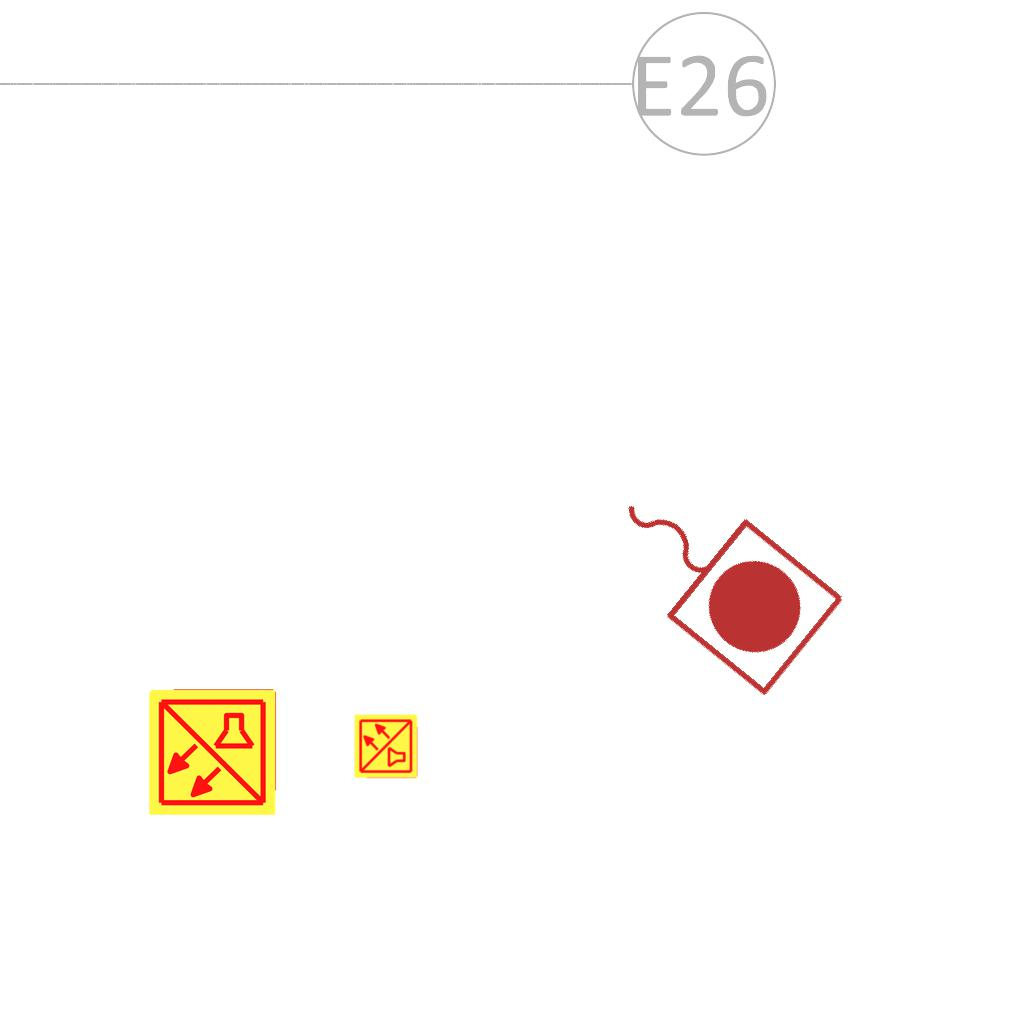OKW_Multisensormelder_(Kombination_optischer_Rauch-Kahlenmonoxid_Waerme-Melder): (146, 686, 278, 818), (353, 713, 419, 779)
Zugtaster: (576, 441, 858, 707)
